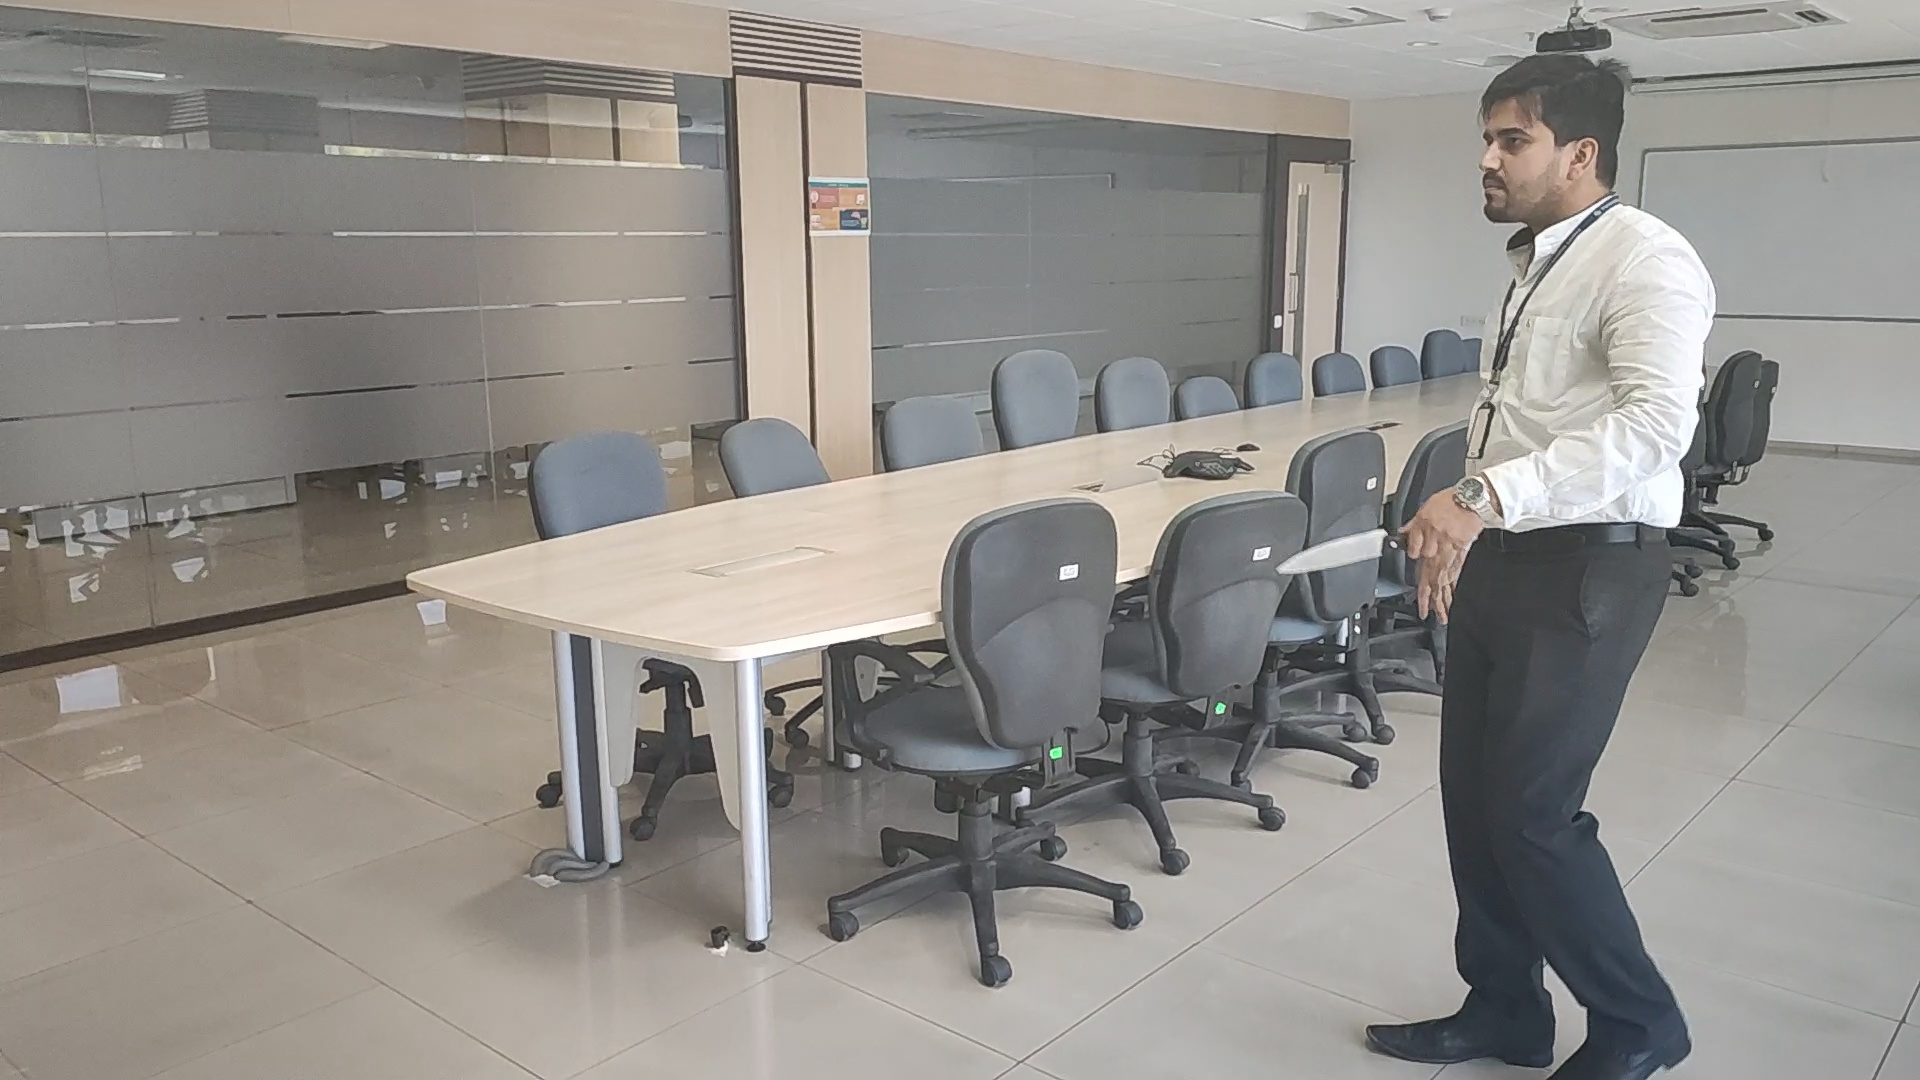knife: (1274, 527, 1400, 575)
